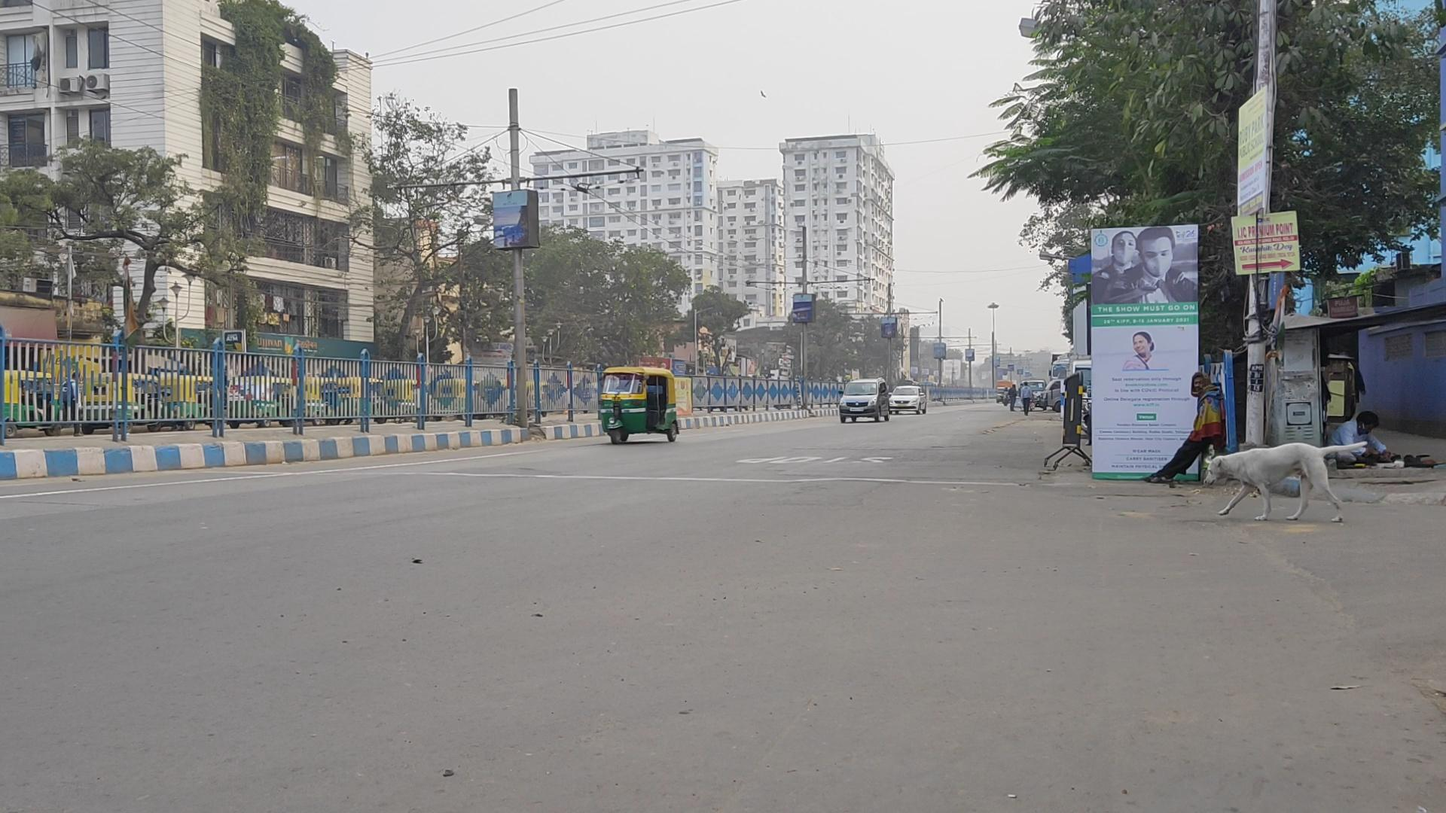Auto: (598, 367, 679, 444)
car: (839, 377, 889, 423), (889, 385, 927, 415), (1020, 378, 1048, 411)
van: (996, 379, 1015, 404)
